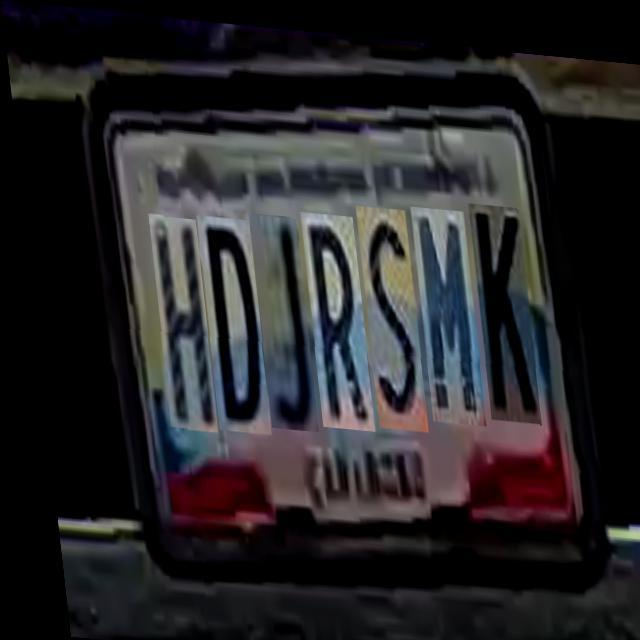D: (192, 212, 263, 430)
H: (143, 212, 210, 430)
J: (244, 210, 310, 427)
K: (464, 194, 534, 414)
M: (406, 198, 478, 418)
R: (296, 206, 367, 425)
S: (352, 199, 420, 425)
